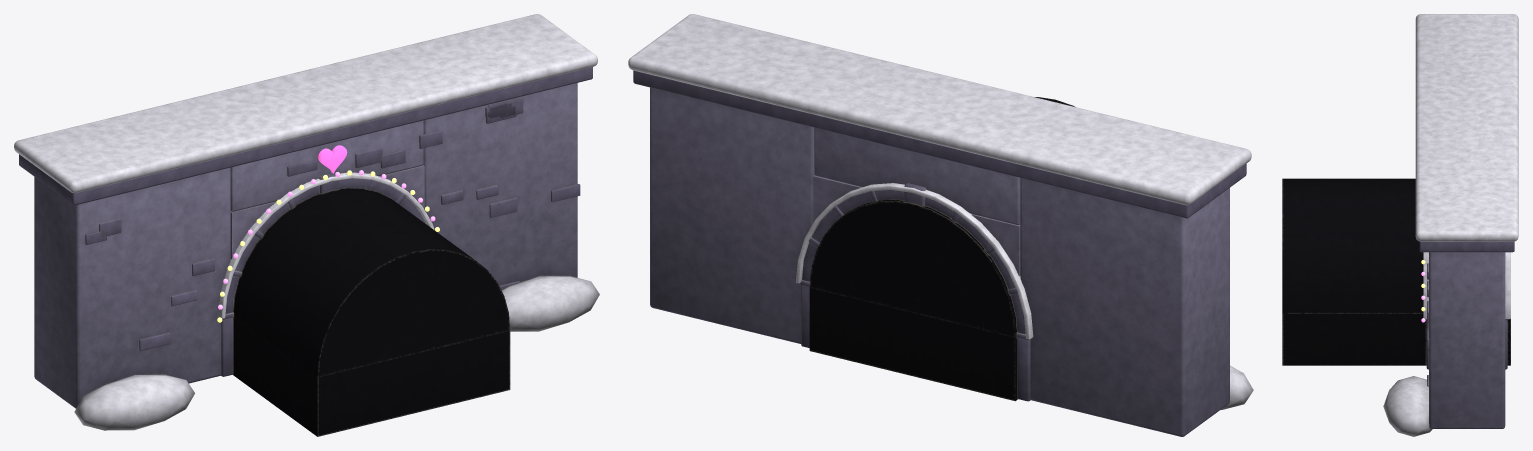
File: sf_tunnel_gate.glb
3 views of the same model, side by side, from view 1: azimuth 30°, elevation 25°; view 2: azimuth 150°, elevation 25°; view 3: azimuth 270°, elevation 25° (orthographic). The views are drawn at different scales.
Visible parts, largest first — view 1: sf_tunnel_gate; view 2: sf_tunnel_gate; view 3: sf_tunnel_gate.
Part boxes in pixels (x1,y1,x2,y2): sf_tunnel_gate: (14,14,599,436); sf_tunnel_gate: (628,14,1253,436); sf_tunnel_gate: (1282,14,1518,436).
Size of the model in its own units: 27.4 by 12.65 by 12.4.
Materials: 7 (7 with a texture image).
